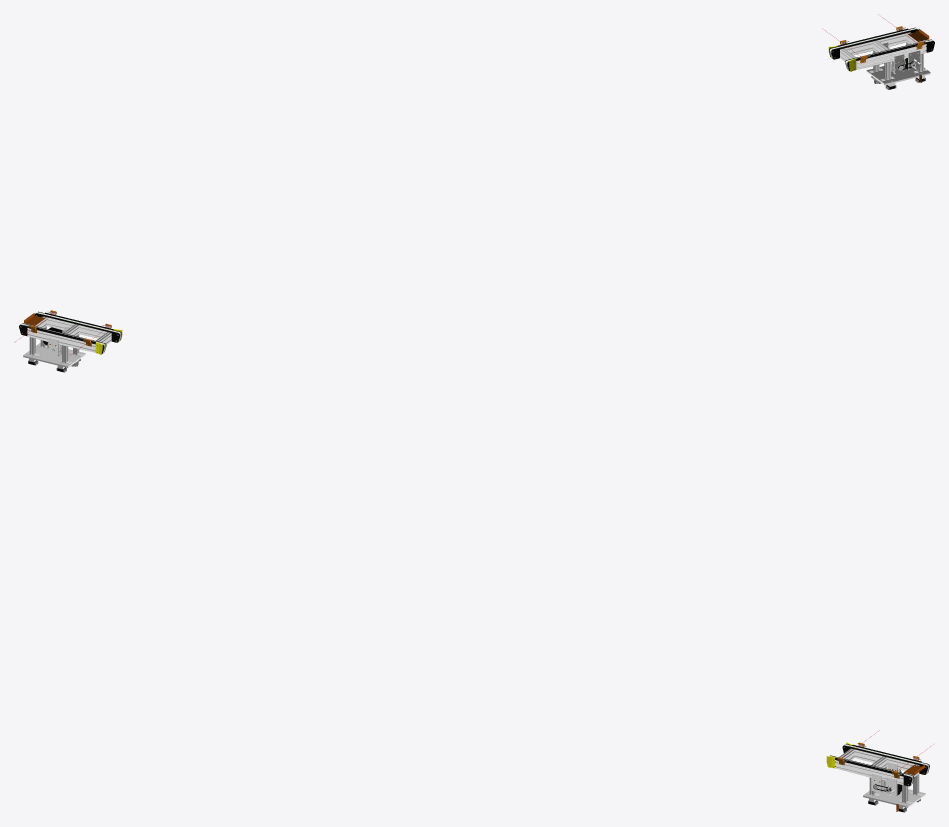
The model's file is AMR_R.fbx.
3 views of the same model, one above another, from view 1: azimuth 30°, elevation 25°; view 2: azimuth 150°, elevation 25°; view 3: azimuth 330°, elevation 25° (orthographic). The views are drawn at different scales.
Parts seen in each view (by area): view 1: AMR_Roller; view 2: AMR_Roller; view 3: AMR_Roller.
Boxes of the visible parts, bbox=[...] form: AMR_Roller: bbox=[822, 14, 934, 89]; AMR_Roller: bbox=[14, 310, 122, 372]; AMR_Roller: bbox=[826, 730, 930, 812].
Size of the model in its own units: 7.28 by 0.3133 by 0.5908.
